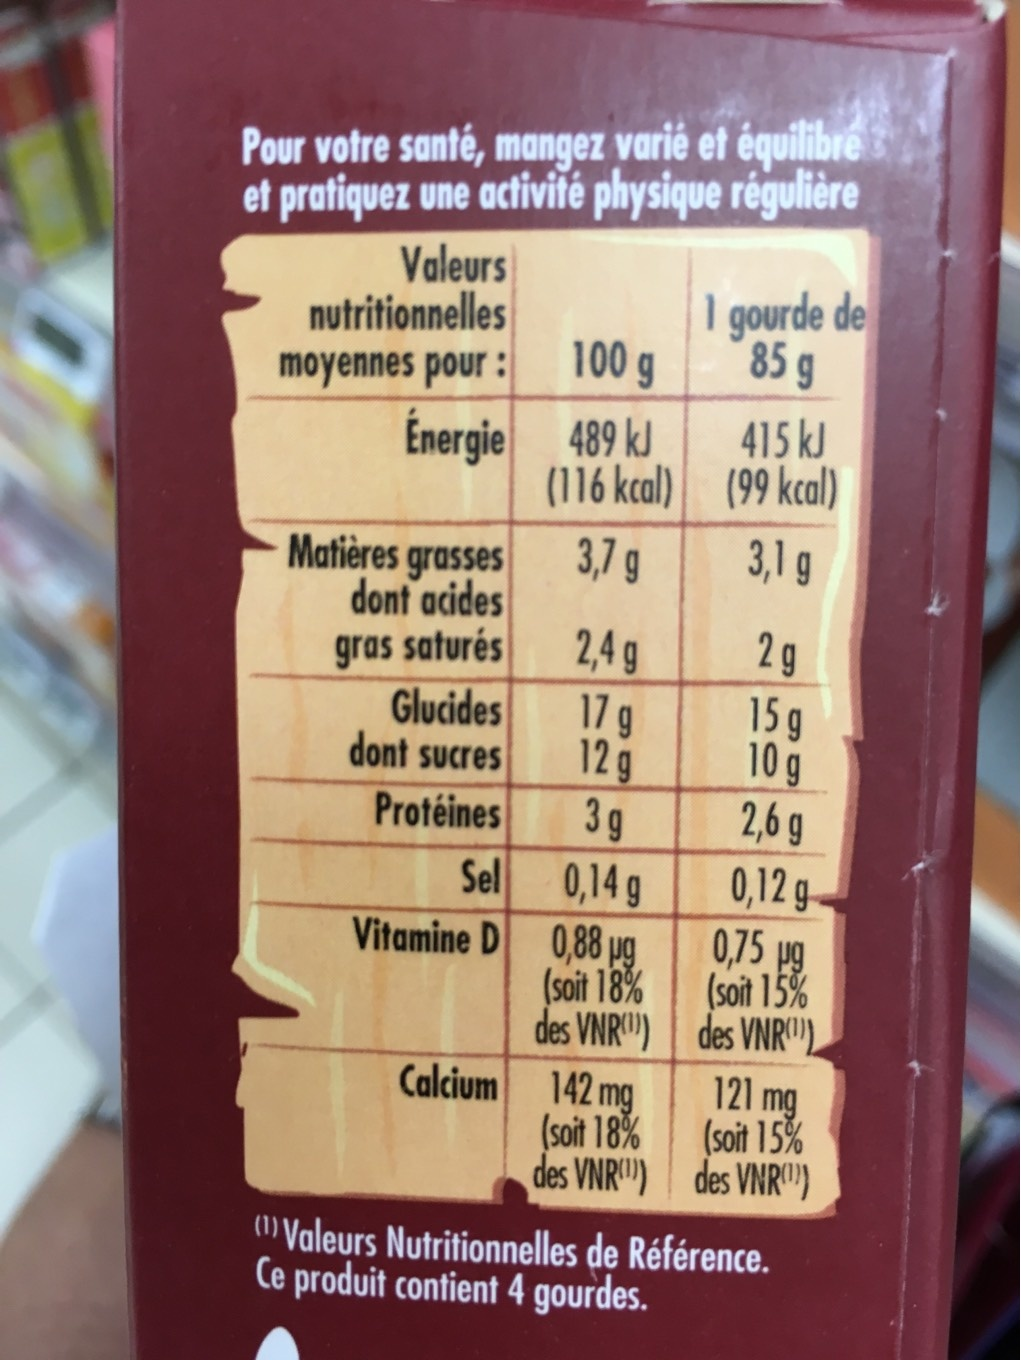column: (281, 241, 510, 1115), (699, 292, 864, 1195), (532, 337, 674, 1194)
table: (214, 226, 881, 1225)
